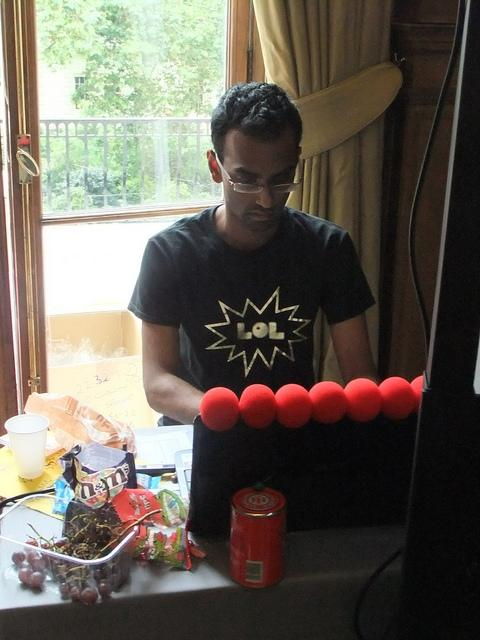grape: (81, 588, 98, 604), (18, 568, 34, 584), (70, 585, 84, 603), (29, 572, 44, 588), (57, 566, 72, 582), (24, 539, 40, 553), (93, 568, 107, 582), (12, 550, 26, 564), (31, 556, 46, 569), (96, 578, 110, 590), (26, 551, 39, 563), (68, 575, 78, 590), (59, 583, 70, 596), (55, 539, 67, 548), (110, 574, 120, 584), (42, 556, 50, 568), (70, 550, 81, 558), (112, 566, 122, 574), (77, 534, 85, 543), (94, 530, 99, 538)
